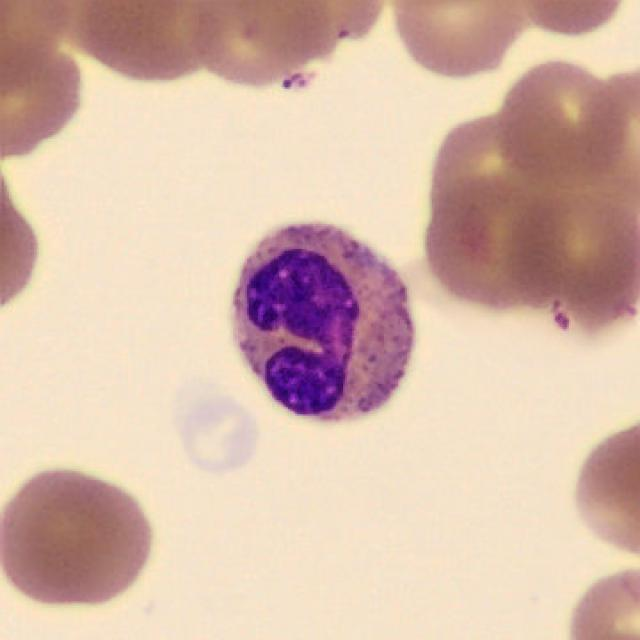Neutrofilo segmentado: (231, 222, 416, 423)
